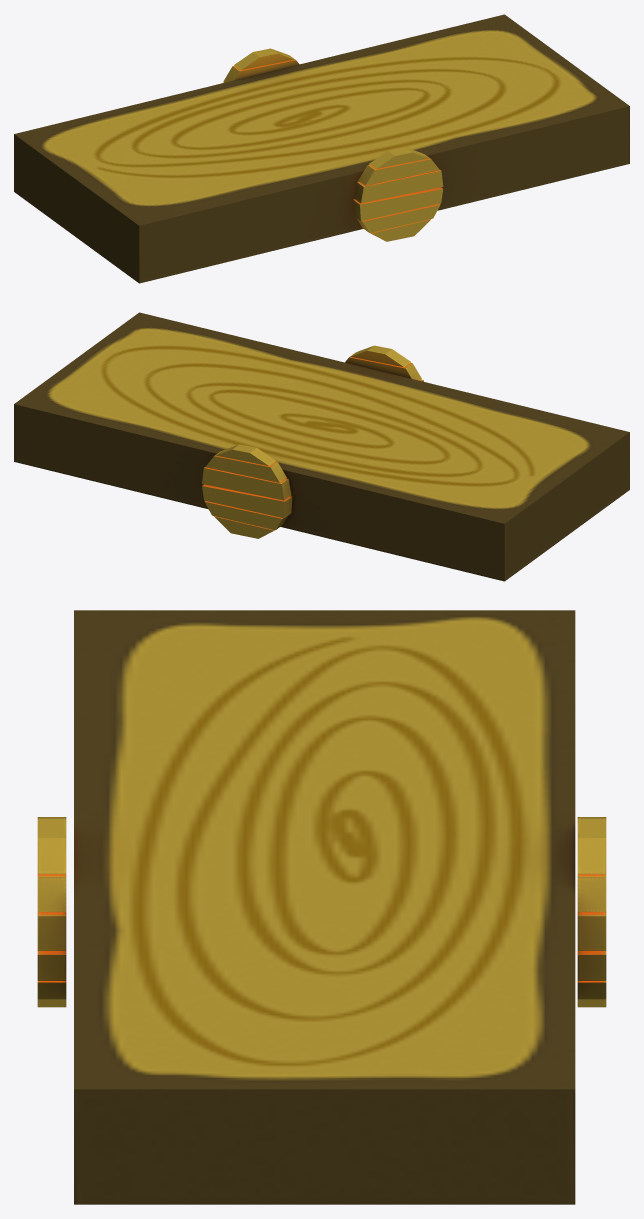
The model's file is tiltboard_fbx.fbx.
3 renders of one model, top to bottom at view 1: azimuth 30°, elevation 25°; view 2: azimuth 150°, elevation 25°; view 3: azimuth 270°, elevation 25°, orthographic. The views are drawn at different scales.
Parts seen in each view (by area): view 1: tiltboard; view 2: tiltboard; view 3: tiltboard.
Boxes of the visible parts, x1,y1,x2,y2 form: tiltboard: [14, 14, 629, 283]; tiltboard: [14, 312, 629, 581]; tiltboard: [37, 610, 606, 1204].
Bounding box in the file's own units: 146 × 24.09 × 73.14.
